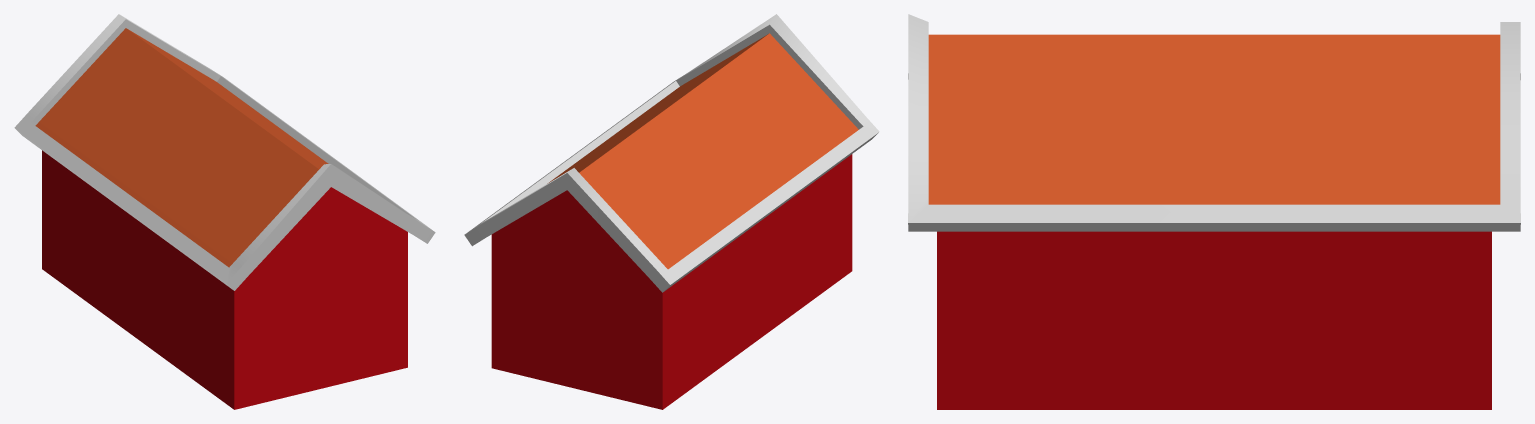
The model's file is SM_Farm_small.fbx.
3 views of the same model, side by side, from view 1: azimuth 30°, elevation 25°; view 2: azimuth 150°, elevation 25°; view 3: azimuth 270°, elevation 25° (orthographic). The views are drawn at different scales.
Parts seen in each view (by area): view 1: SM_Farm_small; view 2: SM_Farm_small; view 3: SM_Farm_small.
Part boxes in pixels (x1,y1,x2,y2): SM_Farm_small: (14,14,435,409); SM_Farm_small: (464,14,879,409); SM_Farm_small: (908,14,1520,409).
Size of the model in its own units: 602 by 640 by 1060.
